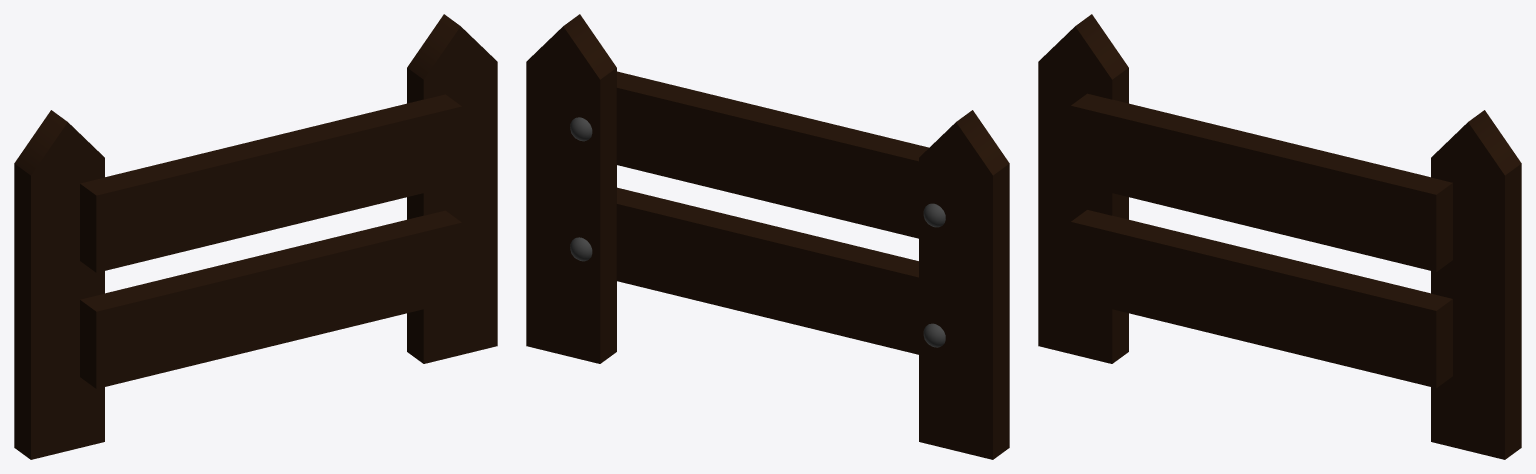
Rendered from padok2.fbx.
3 views of the same model, side by side, from view 1: azimuth 30°, elevation 25°; view 2: azimuth 150°, elevation 25°; view 3: azimuth 330°, elevation 25° (orthographic).
Parts seen in each view (by area): view 1: padok 041, padok 038, padok 046, padok 040; view 2: padok 038, padok 041, padok 040, padok 046; view 3: padok 041, padok 038, padok 040, padok 046.
Boxes of the visible parts, x1=… form: padok 041: x1=80, y1=210, x2=461, y2=388; padok 038: x1=80, y1=94, x2=461, y2=272; padok 046: x1=14, y1=110, x2=104, y2=459; padok 040: x1=407, y1=14, x2=497, y2=363; padok 038: x1=616, y1=71, x2=928, y2=238; padok 041: x1=616, y1=187, x2=918, y2=354; padok 040: x1=526, y1=14, x2=616, y2=363; padok 046: x1=919, y1=110, x2=1009, y2=459; padok 041: x1=1071, y1=210, x2=1452, y2=388; padok 038: x1=1071, y1=93, x2=1452, y2=271; padok 040: x1=1431, y1=110, x2=1521, y2=459; padok 046: x1=1038, y1=14, x2=1128, y2=363.
Bounding box in the file's own units: 29.91 × 20.15 × 4.16.
